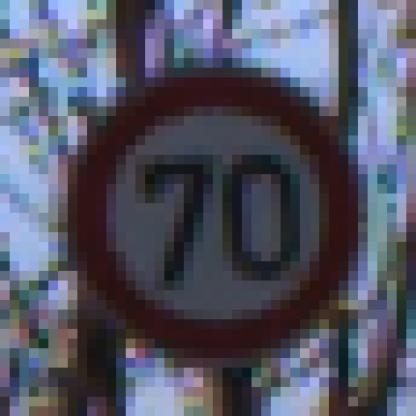Speed Limit 70: (74, 68, 363, 361)
